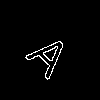A: (25, 25, 81, 81)
